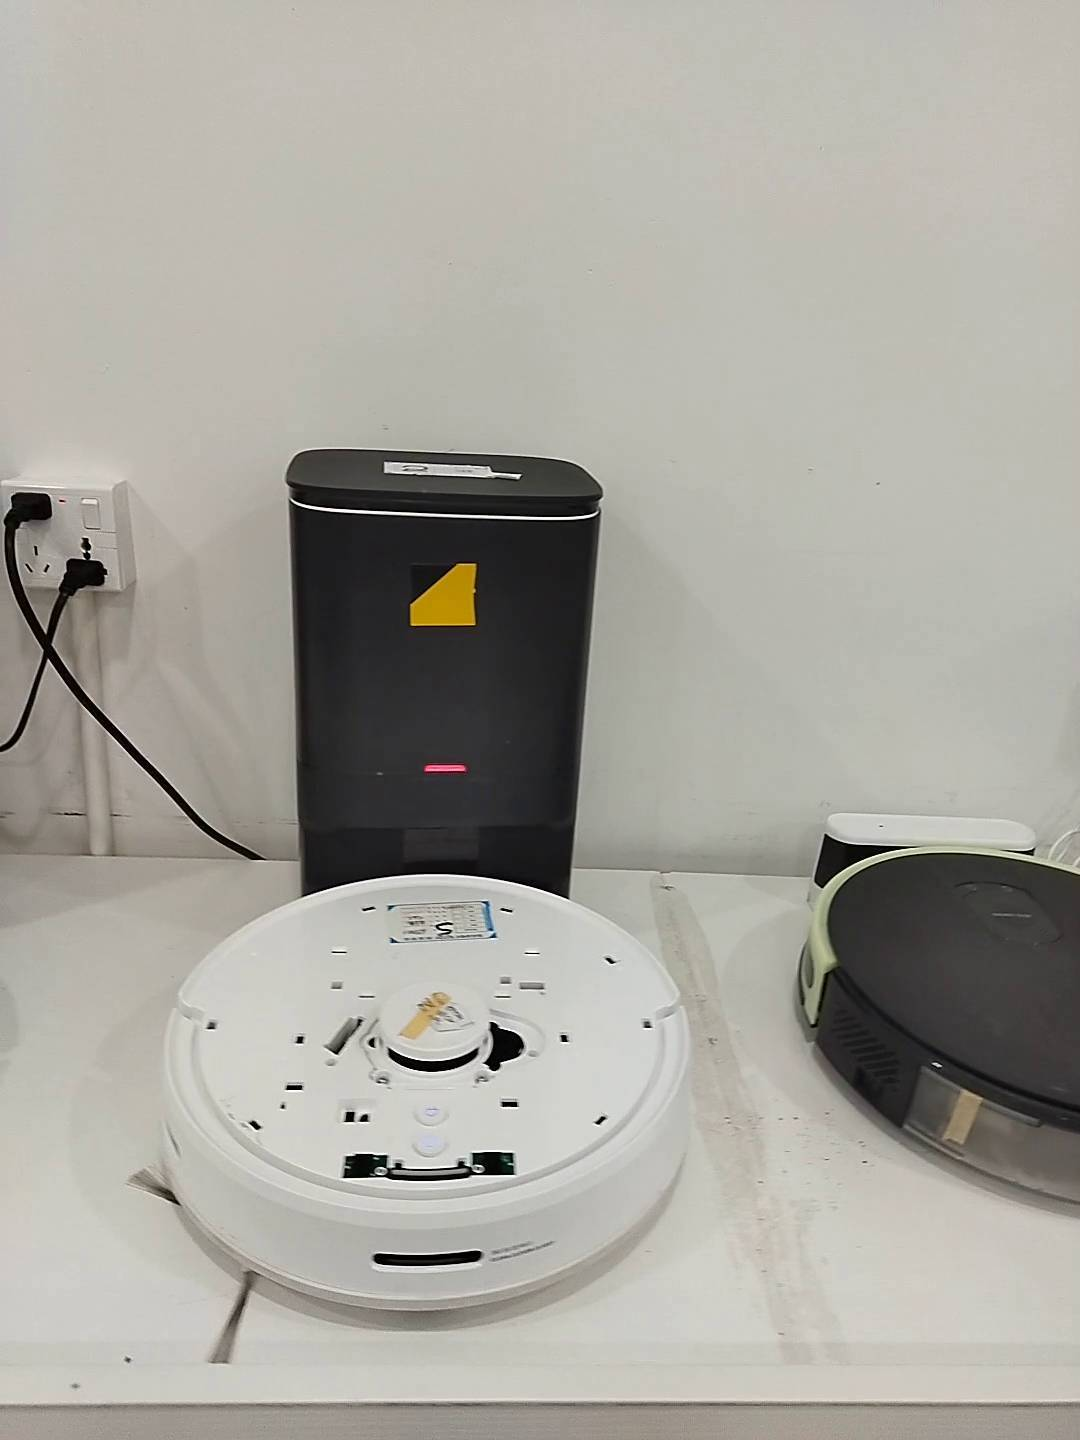dust collecting barrel: (285, 448, 606, 926)
